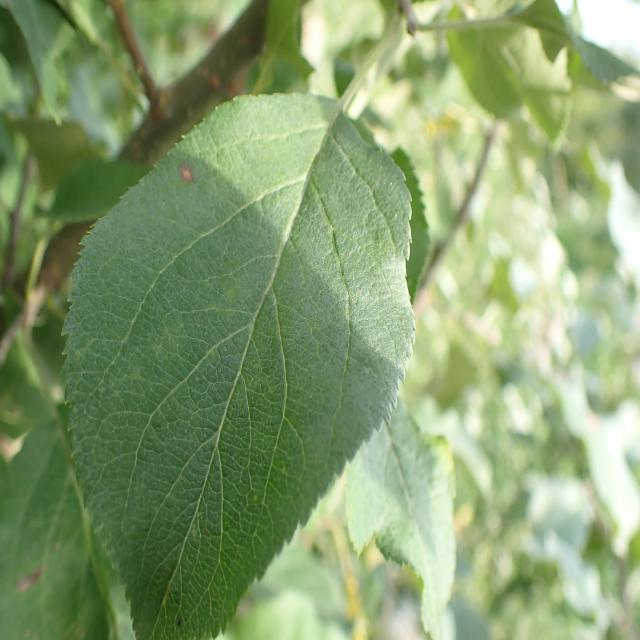Black Rot: (162, 152, 210, 204)
